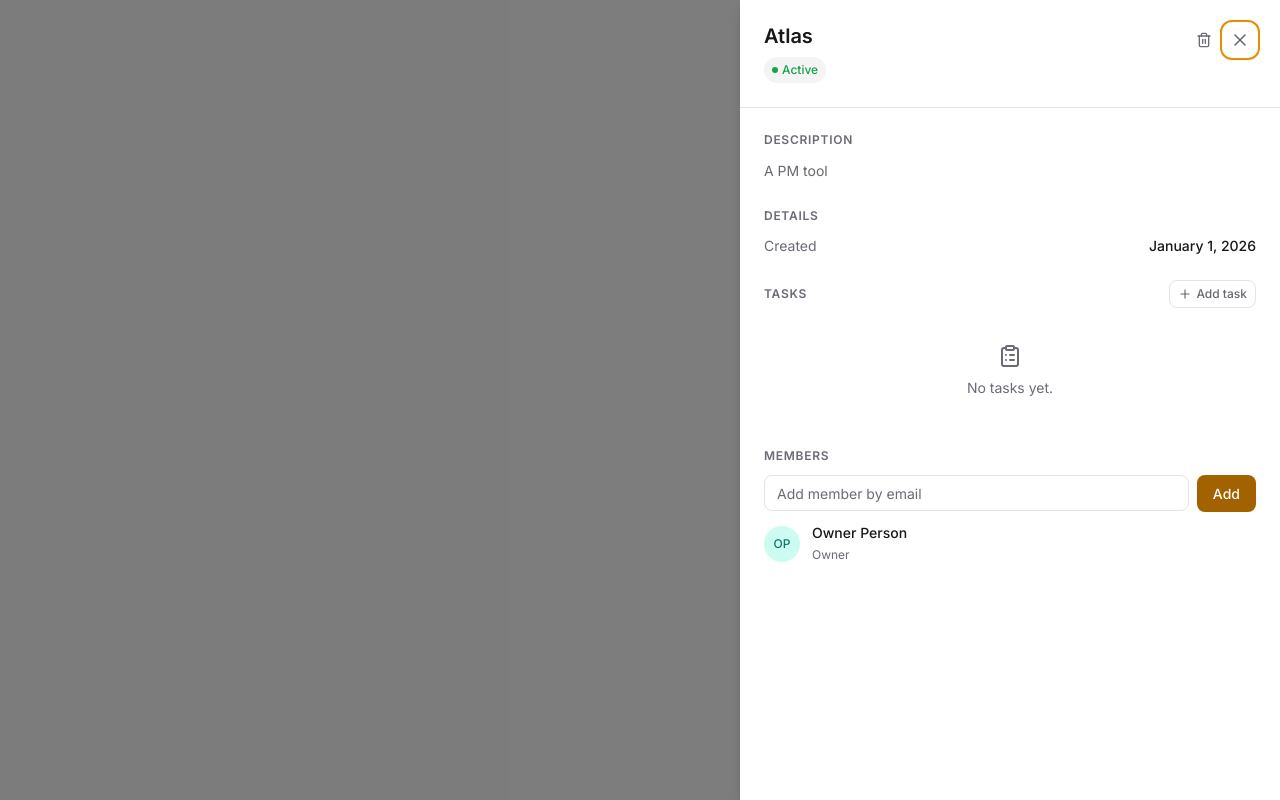
ProjectSlideOver task modal › should open in create mode from Add task
Click the button "Add task".
click(1213, 294)  # box [1169,280,1256,308]
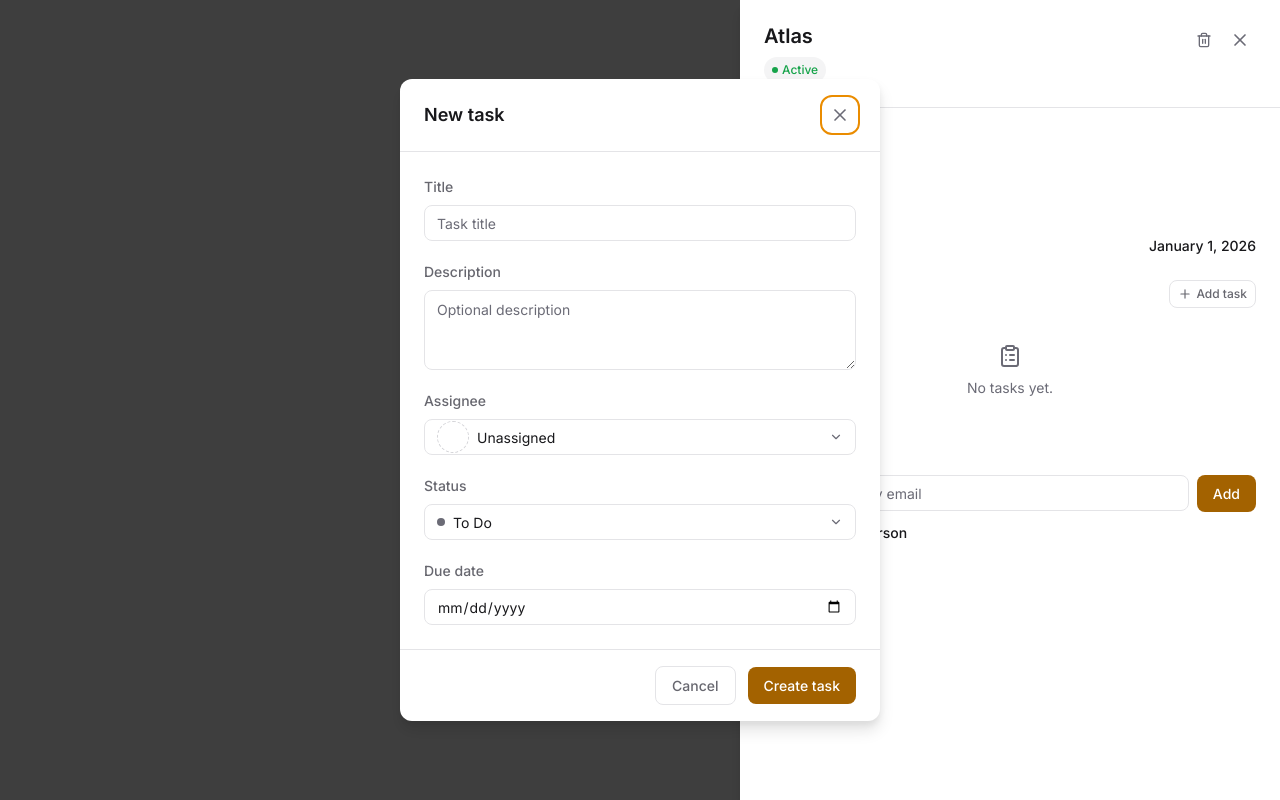
Now the dialog "New task" is shown, box [400,79,880,721]
